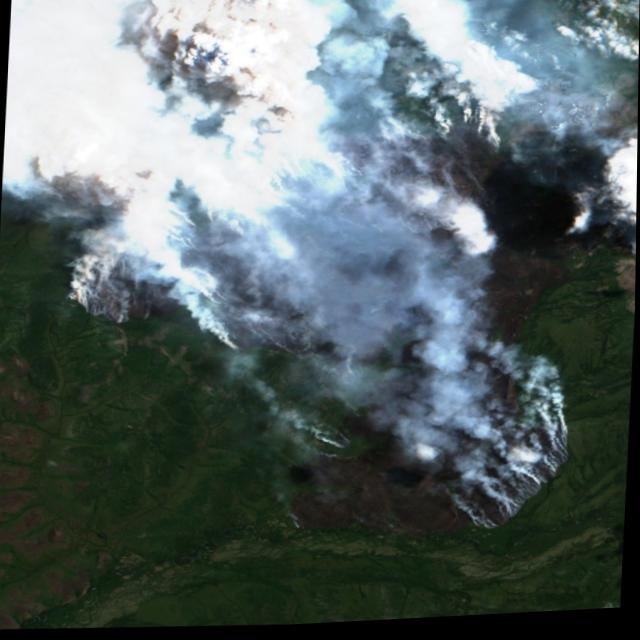fire: (41, 27, 639, 565)
